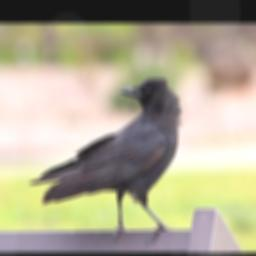Crow: (28, 77, 184, 242)
